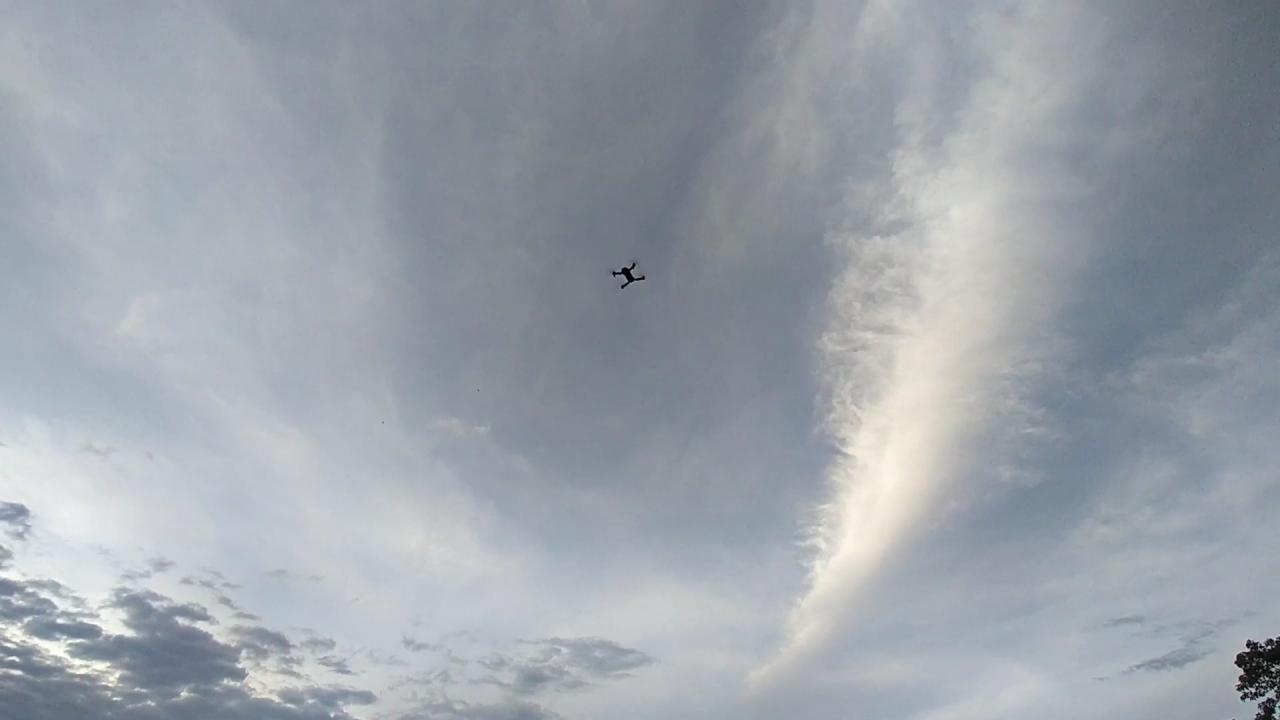Drone: (603, 254, 652, 297)
